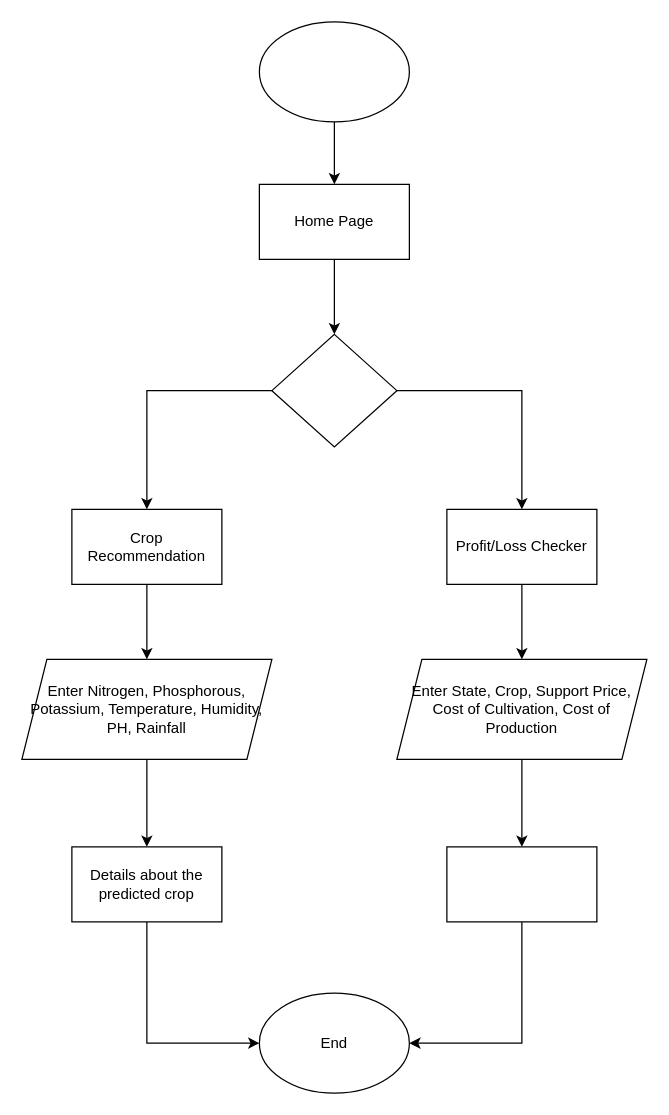
Some shapes in this 669 by 1115 pixel diagram are drawn without their labels. Here are the shapes that lost their labels. From the top down, the centre of each, then its label:
[333,71]: Start
[334,390]: Assistance Required
[521,884]: Profit/Loss
